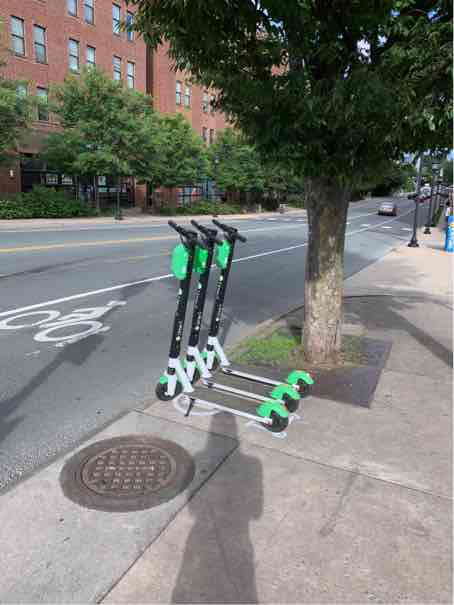too close: (135, 367, 191, 418)
